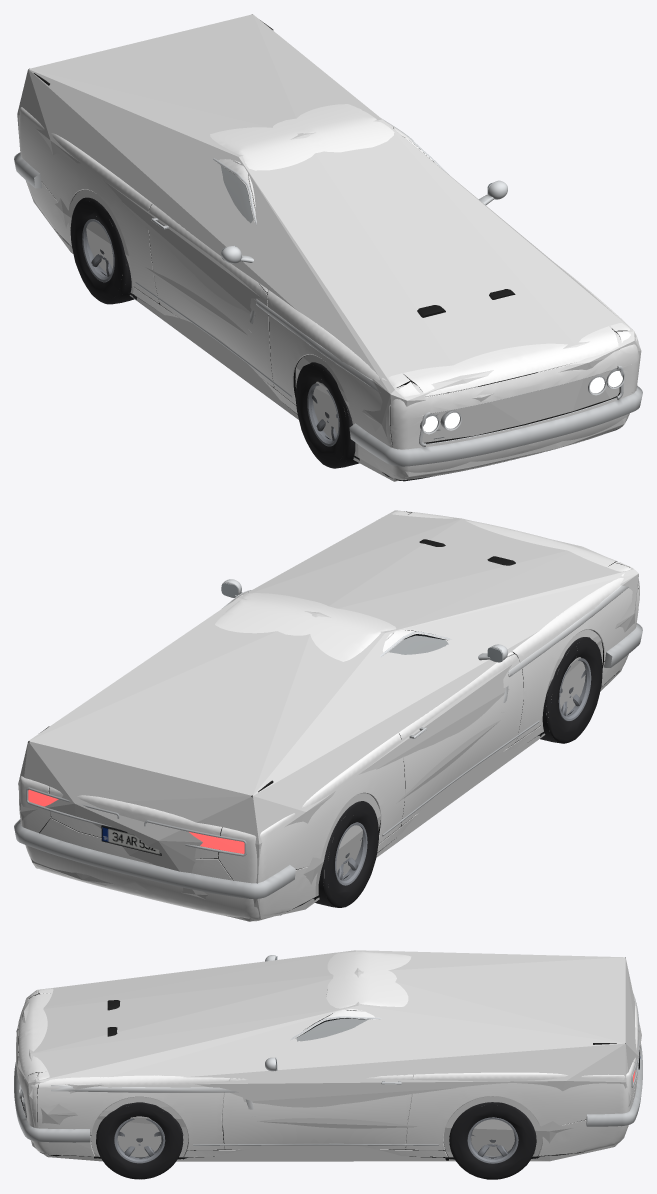
Rendered from arden_ramjet_lod0.glb.
3 views of the same model, one above another, from view 1: azimuth 30°, elevation 25°; view 2: azimuth 150°, elevation 25°; view 3: azimuth 270°, elevation 25° (orthographic). The views are drawn at different scales.
Visible parts, largest first — view 1: col_body, body, exhaust, wheel_RR, wheel_FR, trim, glass, lights_front; view 2: col_body, body, exhaust, wheel_RR, wheel_FR, trim, lights_rear, glass, plate_rear; view 3: col_body, body, wheel_RL, wheel_FL, exhaust, trim, glass.
Part boxes in pixels (box(x1,y1,x2,y2)): col_body: box(17, 14, 641, 481); body: box(19, 104, 638, 479); exhaust: box(14, 118, 642, 466); wheel_RR: box(70, 197, 134, 304); wheel_FR: box(295, 362, 359, 468); trim: box(29, 14, 627, 446); glass: box(221, 166, 253, 222); lights_front: box(423, 371, 622, 432); col_body: box(18, 510, 638, 921); body: box(19, 511, 639, 921); exhaust: box(14, 579, 642, 898); wheel_RR: box(315, 801, 378, 907); wheel_FR: box(540, 637, 602, 743); trim: box(28, 511, 638, 898); lights_rear: box(28, 789, 244, 853); glass: box(389, 634, 448, 654); plate_rear: box(102, 827, 160, 854); col_body: box(16, 950, 641, 1161); body: box(16, 951, 638, 1156); wheel_RL: box(449, 1102, 536, 1179); wheel_FL: box(96, 1102, 183, 1179); exhaust: box(14, 955, 642, 1145); trim: box(18, 957, 639, 1157); glass: box(297, 1018, 368, 1041).
Size of the model in its own units: 2.04 by 1.37 by 4.97.
Materials: 11 (1 with a texture image).
